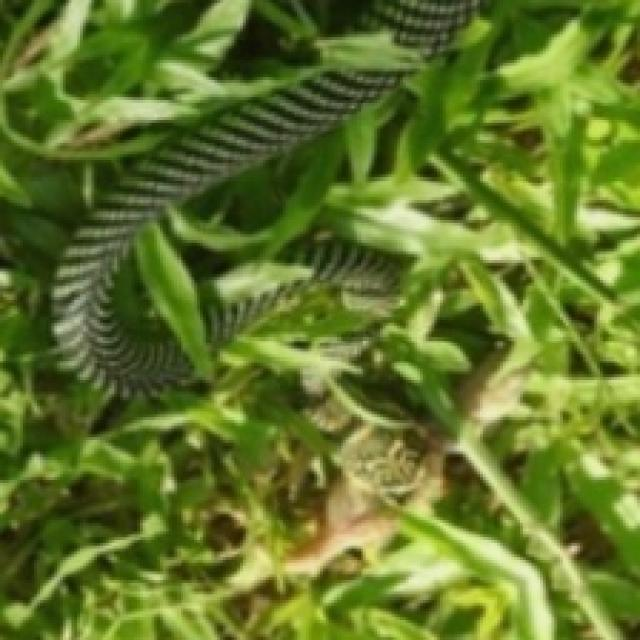paradise tree snake: (49, 0, 480, 389)
